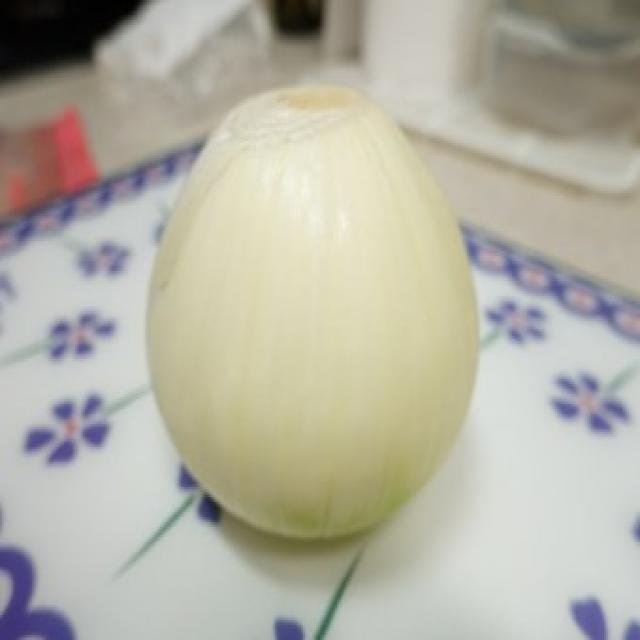onion: (134, 70, 496, 566)
